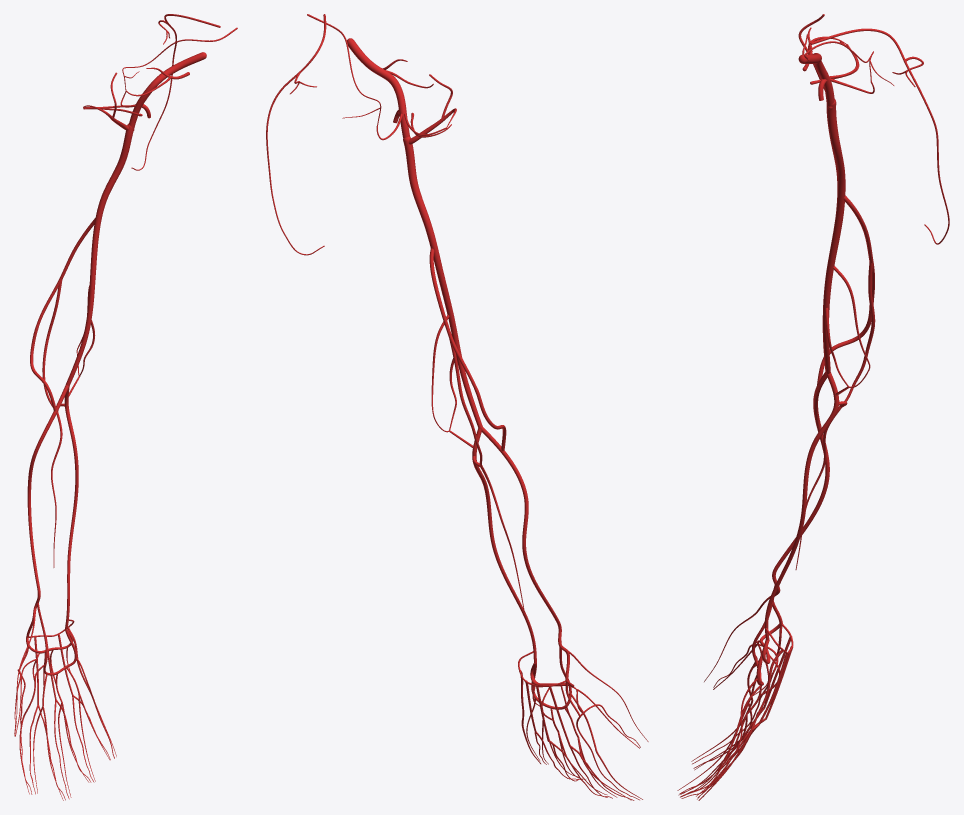
The model's file is arteries.upper_limb_right.glb.
The picture shows the model from 3 angles, left to right: view 1: azimuth 30°, elevation 25°; view 2: azimuth 150°, elevation 25°; view 3: azimuth 270°, elevation 25°; orthographic projection. The views are drawn at different scales.
Visible parts, largest first — view 1: right_brachial_artery, dorsal_digital_arteries_in_hand_fj2346, right_radial_artery, right_ulnar_artery, right_axillary_artery, right_set_of_dorsal_metacarpal_arteries, right_dorsal_scapular_artery, right_superficial_palmar_arterial_arch; view 2: right_brachial_artery, right_radial_artery, dorsal_digital_arteries_in_hand_fj2346, right_ulnar_artery, right_axillary_artery, right_dorsal_scapular_artery, right_set_of_dorsal_metacarpal_arteries; view 3: right_brachial_artery, right_ulnar_artery, right_radial_artery, dorsal_digital_arteries_in_hand_fj2346, right_dorsal_scapular_artery, right_set_of_dorsal_metacarpal_arteries, right_axillary_artery.
Part boxes in pixels (x1,y1,x2,y2): right_brachial_artery: (66,123,132,386); dorsal_digital_arteries_in_hand_fj2346: (14,669,114,800); right_radial_artery: (26,385,69,637); right_ulnar_artery: (64,386,78,629); right_axillary_artery: (129,52,206,138); right_set_of_dorsal_metacarpal_arteries: (20,627,87,704); right_dorsal_scapular_artery: (131,14,220,170); right_superficial_palmar_arterial_arch: (37,603,77,675); right_brachial_artery: (403,137,482,428); right_radial_artery: (481,427,569,680); dorsal_digital_arteries_in_hand_fj2346: (521,704,640,800); right_ulnar_artery: (472,428,536,664); right_axillary_artery: (347,38,410,138); right_dorsal_scapular_artery: (266,14,326,255); right_set_of_dorsal_metacarpal_arteries: (519,670,580,746); right_brachial_artery: (822,99,845,373); right_ulnar_artery: (764,372,839,640); right_radial_artery: (772,372,829,623); dorsal_digital_arteries_in_hand_fj2346: (680,644,778,800); right_dorsal_scapular_artery: (810,28,949,244); right_set_of_dorsal_metacarpal_arteries: (753,625,793,724); right_axillary_artery: (798,53,834,114).
Bounding box in the file's own units: 0.2834 × 0.7069 × 0.1977.
